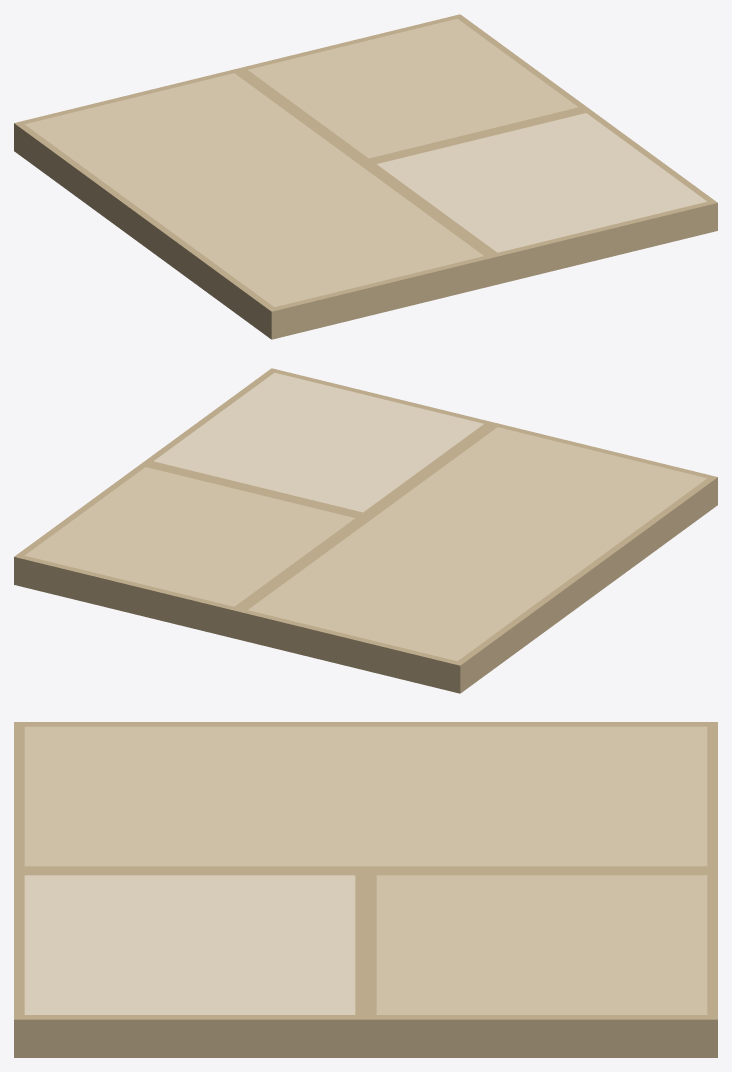
The model's file is paving_tile_b.glb.
3 views of the same model, one above another, from view 1: azimuth 30°, elevation 25°; view 2: azimuth 150°, elevation 25°; view 3: azimuth 270°, elevation 25° (orthographic). The views are drawn at different scales.
Visible parts, largest first — view 1: paving_tile_b; view 2: paving_tile_b; view 3: paving_tile_b.
Part boxes in pixels (<box>): paving_tile_b: <box>14,14,717,339</box>; paving_tile_b: <box>14,368,717,693</box>; paving_tile_b: <box>14,722,717,1057</box>.
Bounding box in the file's own units: 1 × 0.06 × 1.
